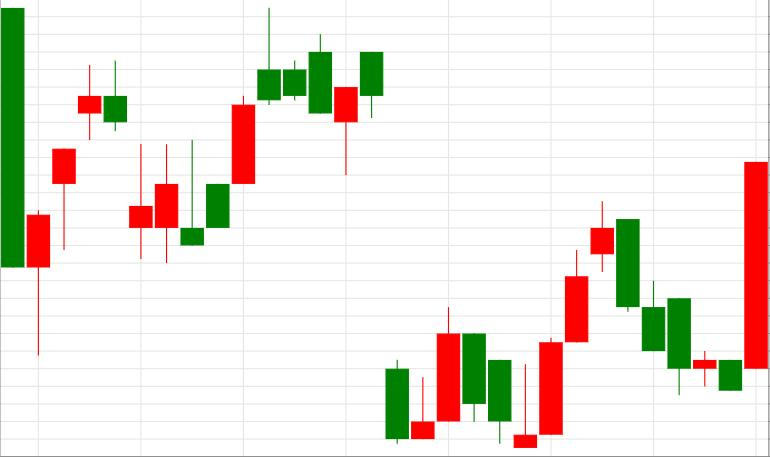shooting_star_fall: (181, 8, 281, 246)
